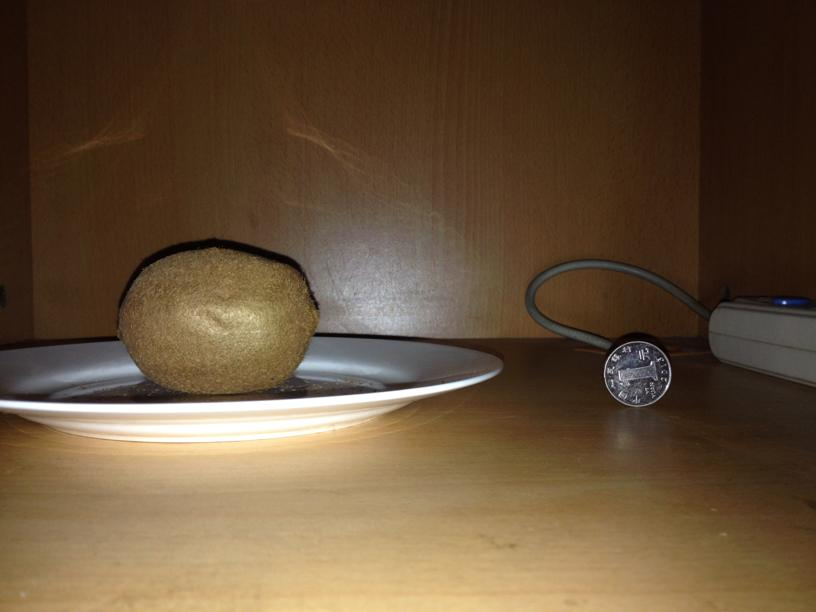coin: (602, 336, 672, 408)
qiwi: (112, 247, 323, 396)
